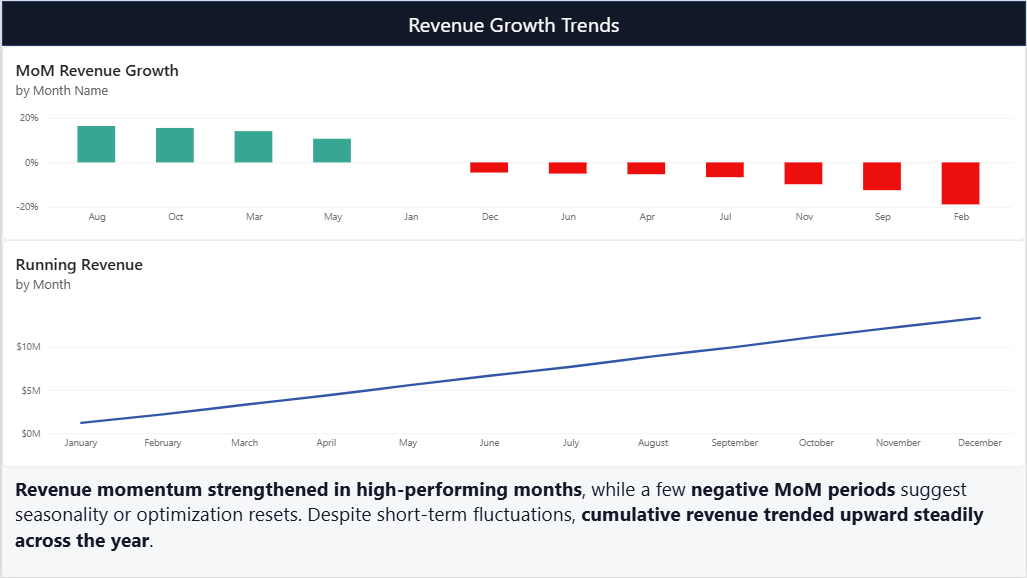

What the dashboard file says about the page in this screenshot:
{"tool":"powerbi","page":{"name":"Revenue Growth Trends","canvas":[1280,720],"ordinal":1},"visuals":[{"type":"clusteredColumnChart","fields":{"Y":["Formulas.MoM Revenue Growth"],"Category":["Date_Table.Month Name"]},"box":[0,56.1,1280,243],"z":0},{"type":"lineChart","fields":{"Y":["Formulas.Running Revenue"],"Category":["Date_Table.Date.Variation.Date Hierarchy.Month"]},"box":[0,299.1,1280,283.7],"z":1000},{"type":"shape","box":[0,0,1280,56.2],"z":2000},{"type":"textbox","box":[16.3,592.4,1247.5,103.7],"z":3000}]}

Visuals, with their boxes in screenshot pixels (x1, y1, x2, y2), scaled from the page's 1280x720 canvas onto the 1027x578 screenshot:
clusteredColumnChart - Formulas.MoM Revenue Growth x Date_Table.Month Name: Rect(0, 45, 1026, 240)
lineChart - Formulas.Running Revenue x Date_Table.Date.Variation.Date Hierarchy.Month: Rect(0, 240, 1026, 468)
shape: Rect(0, 0, 1026, 45)
textbox: Rect(13, 476, 1014, 559)
